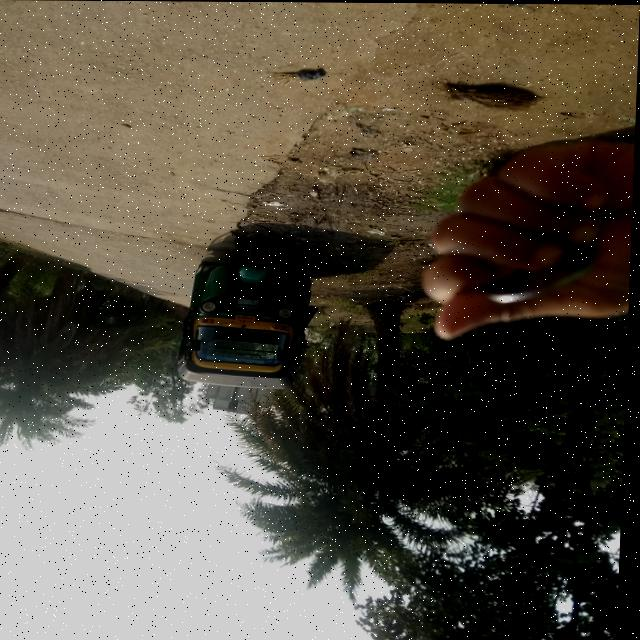plate: (237, 313, 259, 325)
